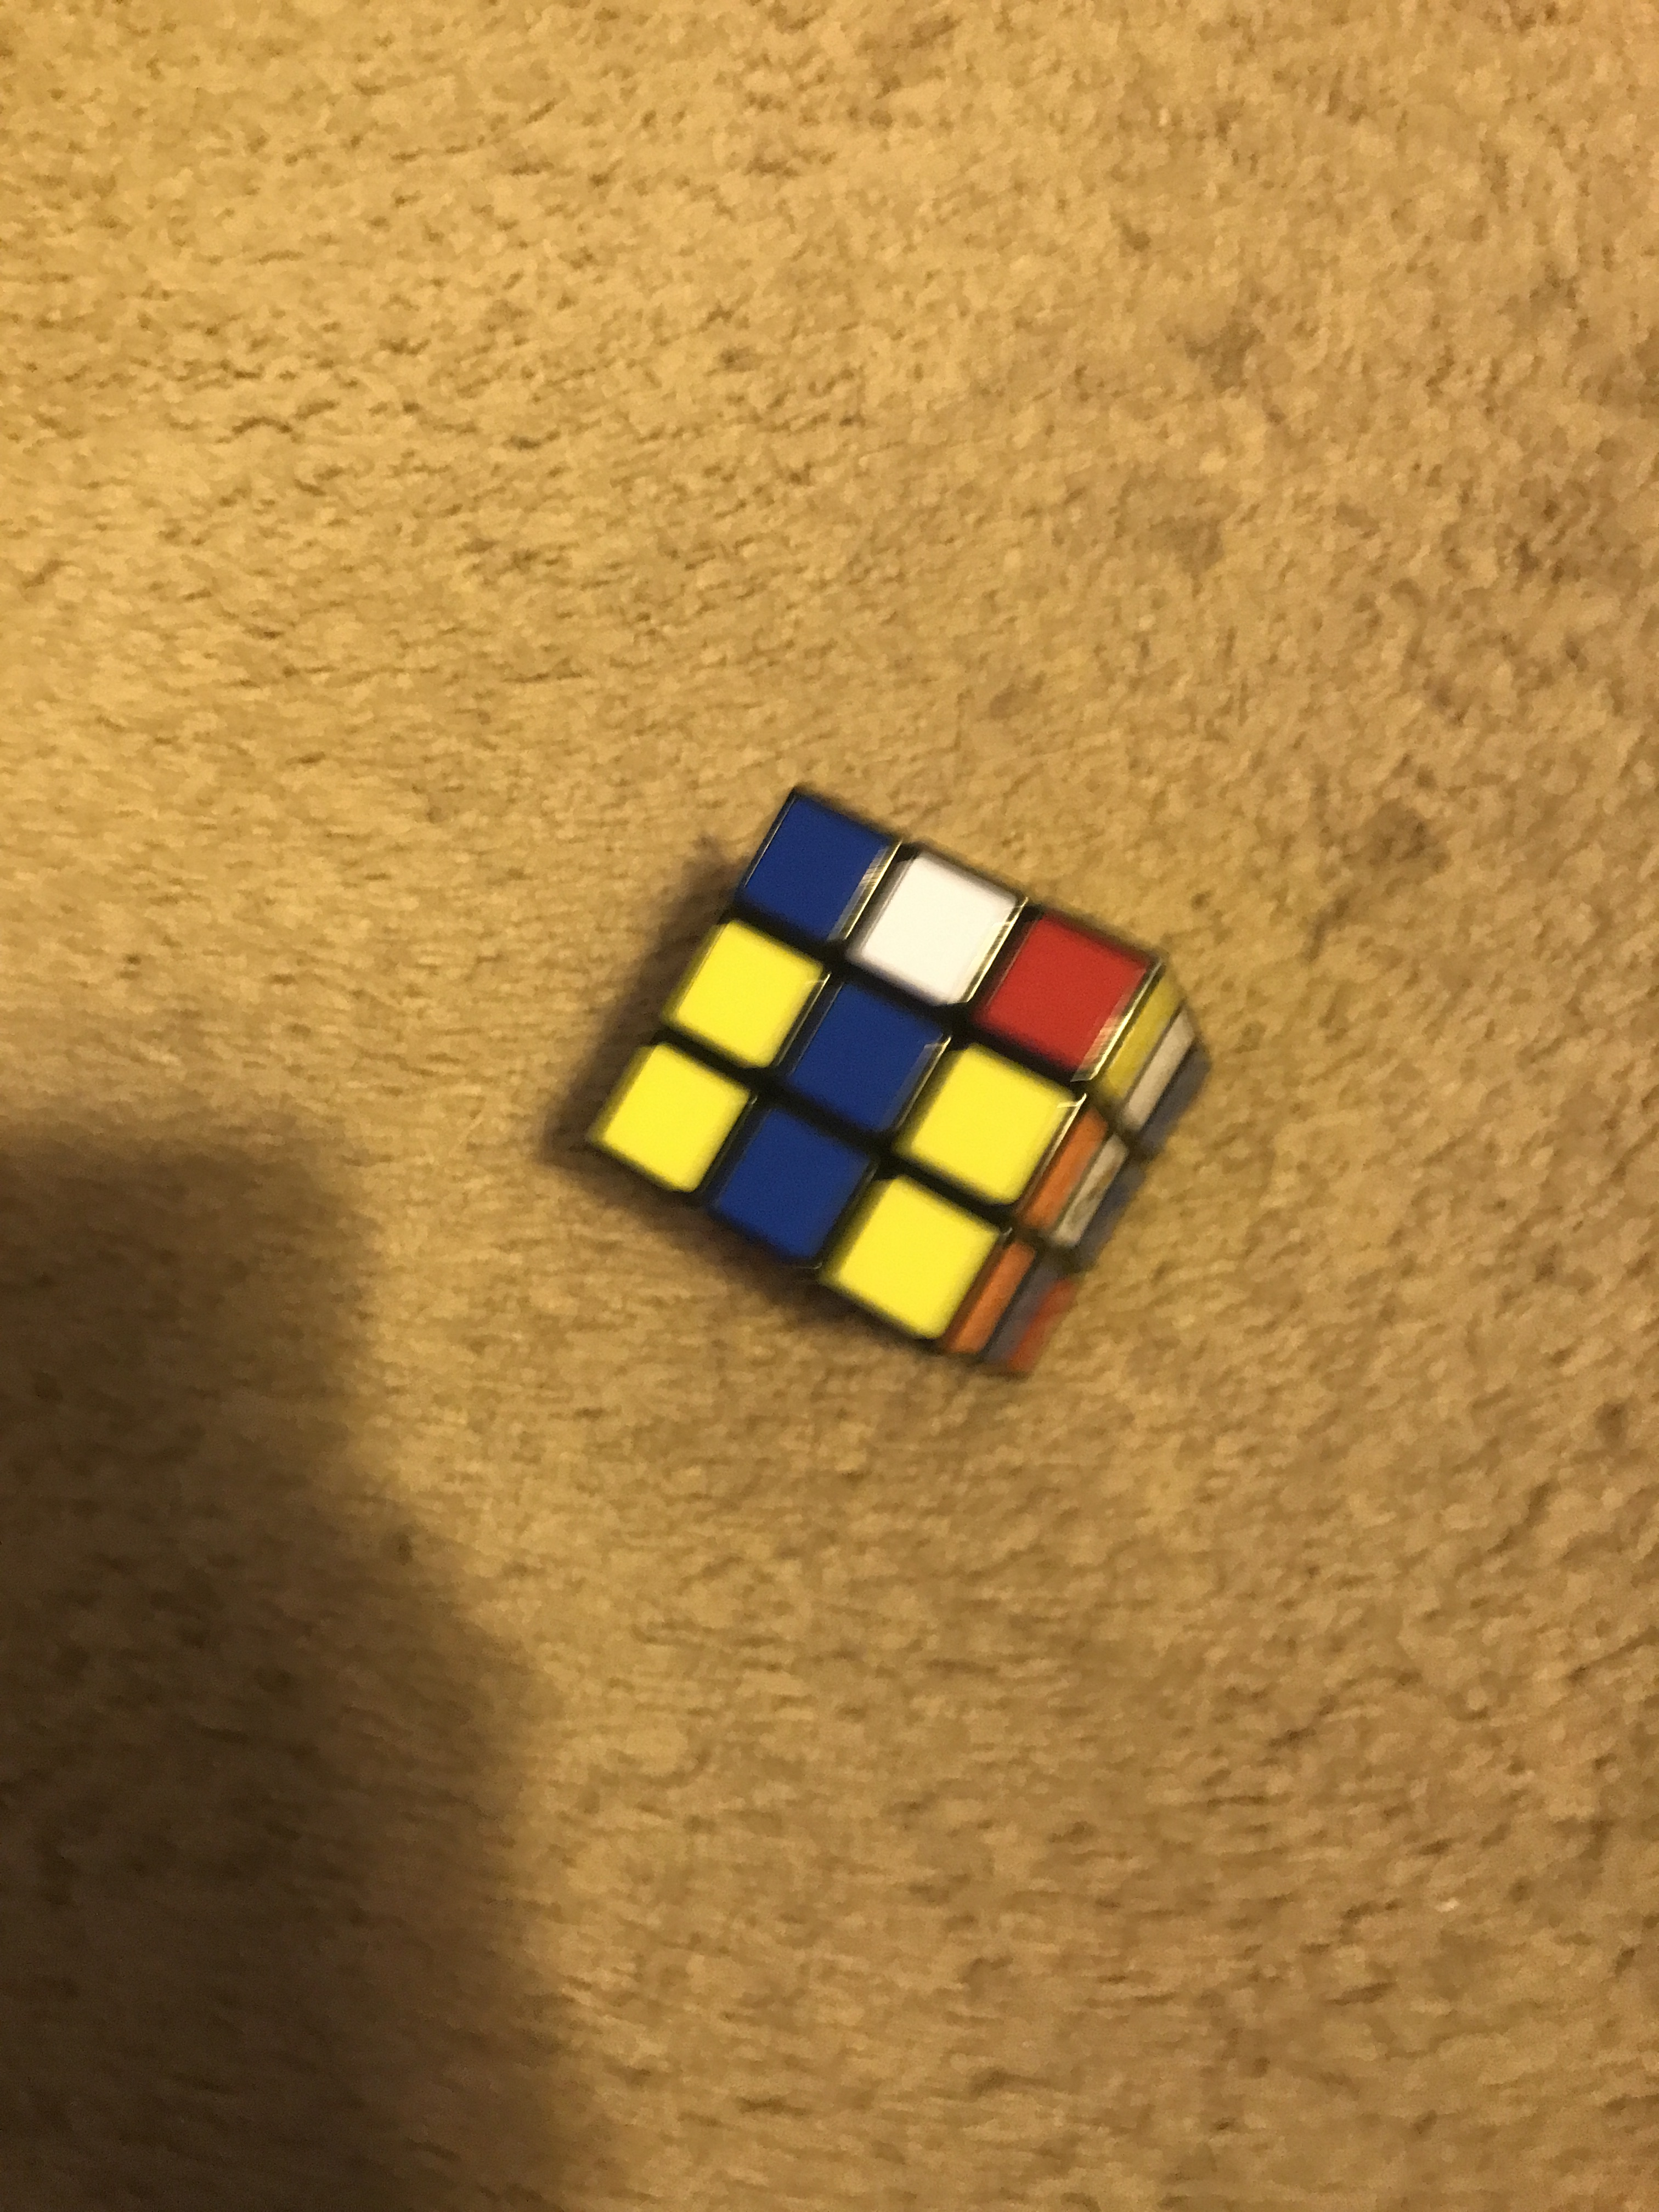rubiks: (579, 784, 1220, 1392)
